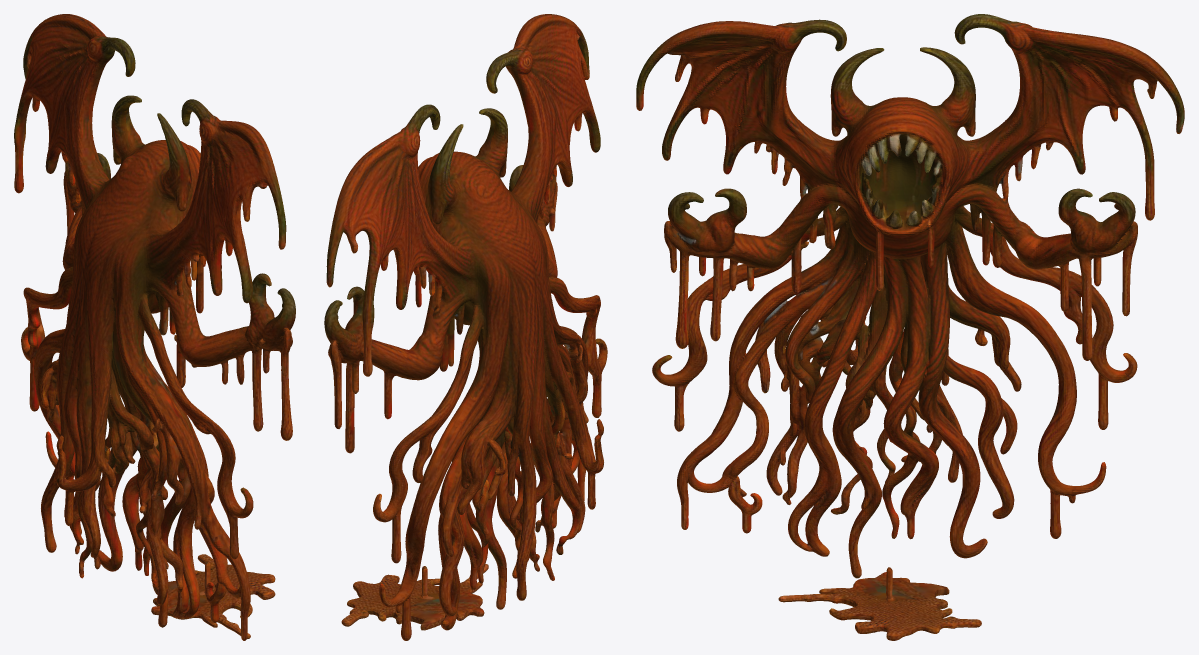
File: Crimson Plague Kneaded.glb
The picture shows the model from 3 angles, left to right: view 1: azimuth 30°, elevation 25°; view 2: azimuth 150°, elevation 25°; view 3: azimuth 270°, elevation 25°; orthographic projection. The views are drawn at different scales.
Visible parts, largest first — view 1: tripo_node_25d239c0-39d8-4b82-a8b8-649a4cfcd211; view 2: tripo_node_25d239c0-39d8-4b82-a8b8-649a4cfcd211; view 3: tripo_node_25d239c0-39d8-4b82-a8b8-649a4cfcd211.
Part boxes in pixels (left/top/right/bottom): tripo_node_25d239c0-39d8-4b82-a8b8-649a4cfcd211: left=14, top=14, right=295, bottom=640; tripo_node_25d239c0-39d8-4b82-a8b8-649a4cfcd211: left=324, top=14, right=607, bottom=640; tripo_node_25d239c0-39d8-4b82-a8b8-649a4cfcd211: left=636, top=14, right=1184, bottom=640.
Size of the model in its own units: 0.4454 by 1 by 0.8551.
1 material, 1 textured.
